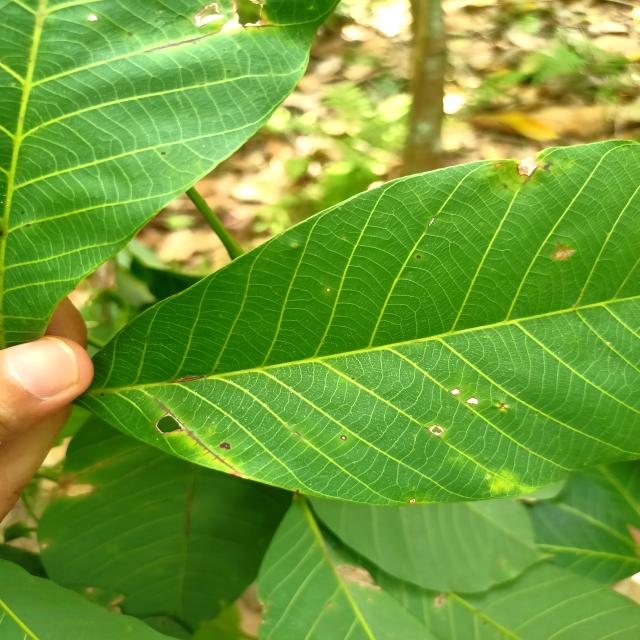Colletotrichum: (341, 435, 347, 440), (416, 255, 421, 259), (326, 288, 331, 292), (128, 32, 132, 36), (161, 152, 166, 155), (101, 393, 104, 396), (215, 370, 218, 372), (147, 410, 149, 412)
Corynespora: (152, 398, 236, 472), (144, 31, 222, 53)
Leaf-Blight: (517, 155, 539, 176), (221, 12, 243, 31), (550, 244, 575, 260), (194, 15, 223, 28), (245, 21, 268, 26)
